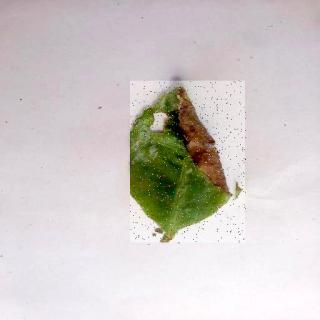Algal Leaf: (132, 82, 247, 244)
